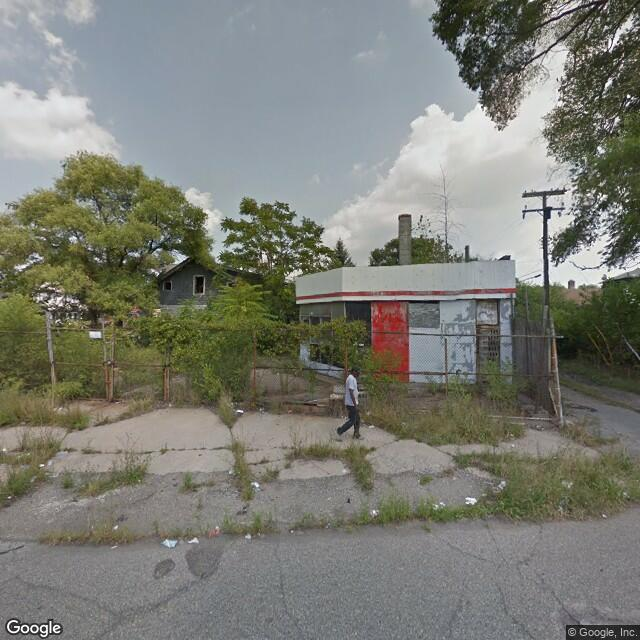litter: (427, 501, 446, 514), (158, 536, 181, 546), (491, 478, 506, 493), (231, 406, 247, 419), (462, 494, 479, 506), (367, 509, 387, 519), (48, 406, 69, 415), (596, 513, 610, 526), (1, 439, 11, 456), (111, 519, 123, 533), (37, 460, 52, 470), (561, 477, 573, 489), (339, 465, 354, 474), (104, 546, 123, 553), (248, 481, 258, 492), (187, 538, 200, 546), (620, 492, 633, 498), (245, 533, 257, 539), (367, 421, 376, 429), (229, 468, 236, 477), (7, 494, 14, 499)
